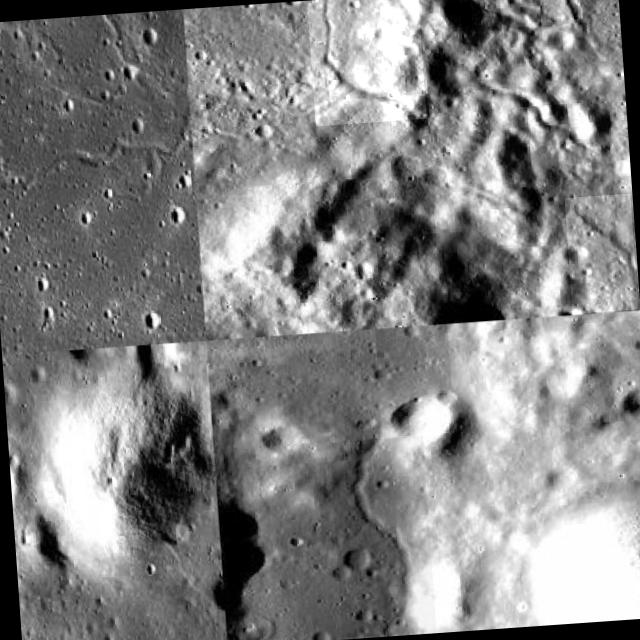rille: (0, 9, 195, 235), (466, 22, 629, 180), (328, 434, 436, 638), (306, 0, 426, 125), (564, 193, 638, 313)
